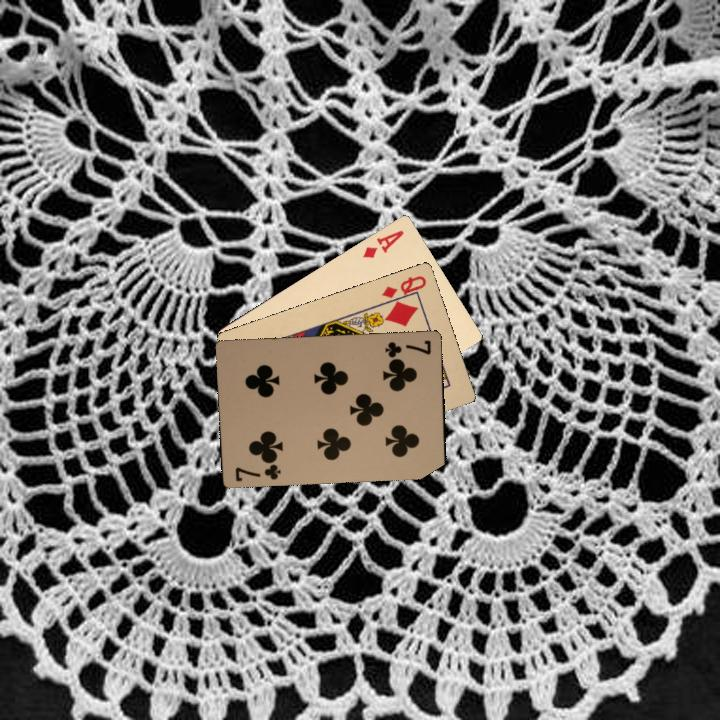7c: (231, 455, 283, 484), (381, 336, 434, 361)
Ad: (359, 226, 407, 261)
Qd: (377, 271, 429, 307)
